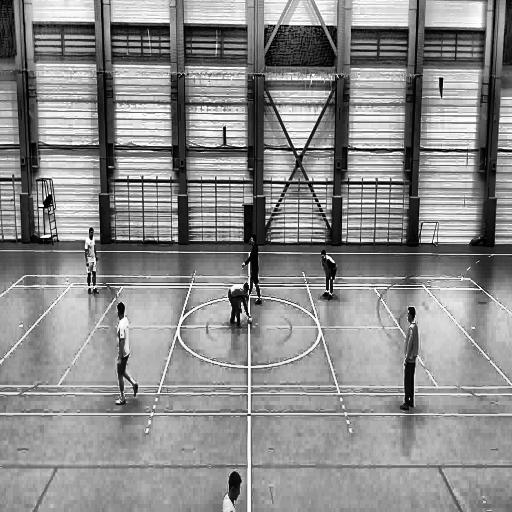ball: (246, 314, 253, 328)
player: (114, 302, 140, 407), (398, 304, 420, 415), (242, 233, 262, 305), (227, 282, 250, 328), (320, 248, 338, 301), (85, 226, 98, 296)
